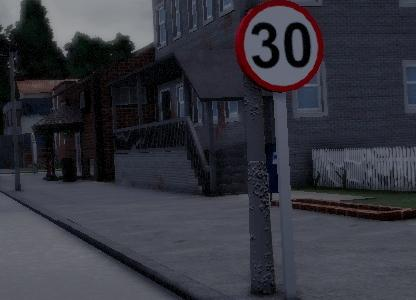Speed_30: (233, 0, 326, 94)
